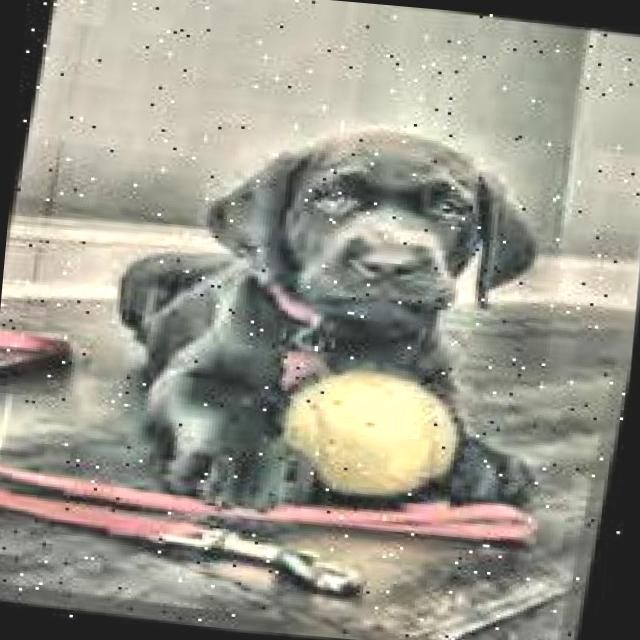tennis-ball: (266, 356, 478, 524)
